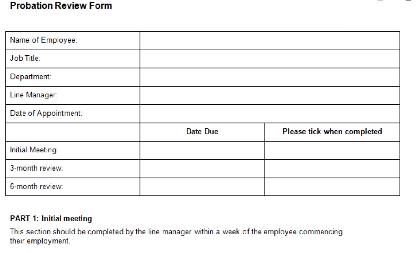textbox: (138, 83, 402, 107), (136, 66, 402, 89), (137, 48, 402, 70), (137, 103, 402, 125), (139, 30, 401, 52), (261, 175, 403, 199), (137, 174, 268, 200), (137, 157, 267, 182), (261, 139, 402, 162), (261, 158, 403, 180), (137, 139, 267, 163)
